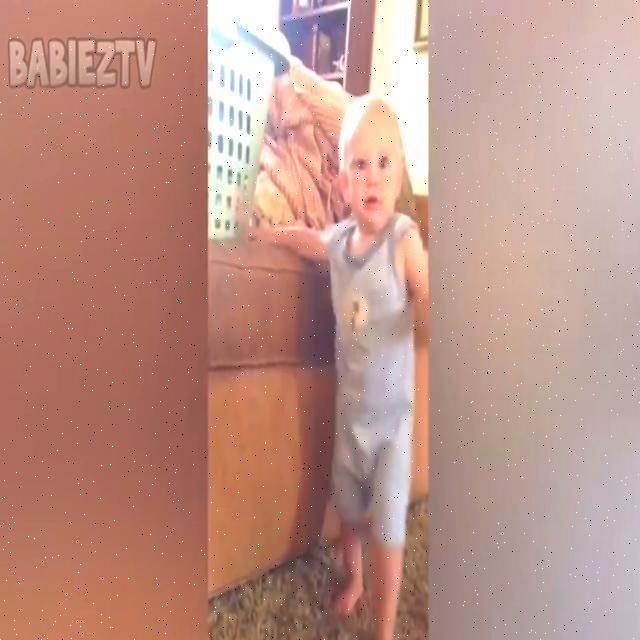child: (253, 95, 428, 640)
